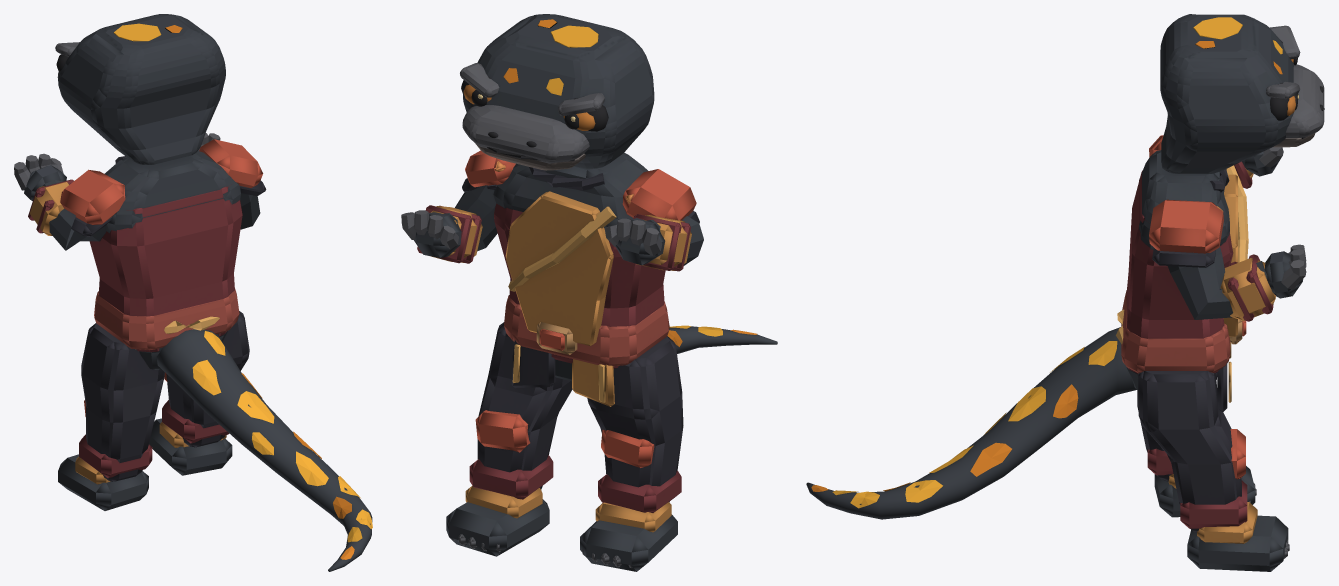
Rendered from Fire_Salamander.glb.
The picture shows the model from 3 angles, left to right: view 1: azimuth 30°, elevation 25°; view 2: azimuth 150°, elevation 25°; view 3: azimuth 270°, elevation 25°; orthographic projection. The views are drawn at different scales.
Parts seen in each view (by area): view 1: Torso_Shell, Head_Shell, Tail_Shell, Left_Leg_Shell, Left_Arm_Shell, Right_Leg_Shell, Right_Arm_Shell; view 2: Torso_Shell, Head_Shell, Left_Leg_Shell, Right_Leg_Shell, Left_Arm_Shell, Right_Arm_Shell, Tail_Shell; view 3: Head_Shell, Right_Leg_Shell, Torso_Shell, Tail_Shell, Right_Arm_Shell, Left_Leg_Shell, Left_Arm_Shell.
Part boxes in pixels (x1,y1,x2,y2): Torso_Shell: [89, 151, 242, 369]; Head_Shell: [55, 14, 225, 164]; Tail_Shell: [156, 329, 372, 571]; Left_Leg_Shell: [58, 323, 164, 510]; Left_Arm_Shell: [14, 153, 125, 250]; Right_Leg_Shell: [149, 311, 249, 475]; Right_Arm_Shell: [198, 133, 266, 229]; Torso_Shell: [493, 152, 669, 406]; Head_Shell: [460, 14, 654, 170]; Left_Leg_Shell: [580, 336, 683, 571]; Right_Leg_Shell: [446, 322, 572, 556]; Left_Arm_Shell: [604, 169, 703, 271]; Right_Arm_Shell: [401, 150, 515, 263]; Tail_Shell: [667, 325, 777, 353]; Head_Shell: [1160, 14, 1324, 173]; Right_Leg_Shell: [1138, 371, 1289, 571]; Torso_Shell: [1116, 150, 1248, 411]; Tail_Shell: [806, 327, 1136, 519]; Right_Arm_Shell: [1149, 199, 1306, 321]; Left_Leg_Shell: [1137, 372, 1256, 517]; Left_Arm_Shell: [1149, 135, 1283, 188].
Size of the model in its own units: 2.35 by 4.7 by 4.41.
Materials: 1 (1 with a texture image).
